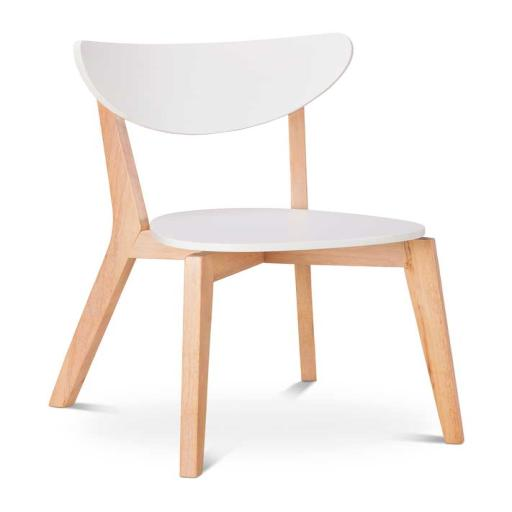chair: (38, 35, 467, 477)
